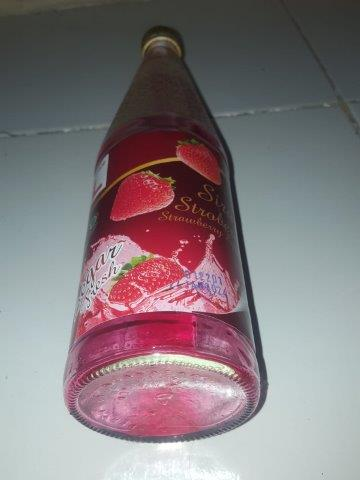botolkaca: (63, 26, 263, 443)
